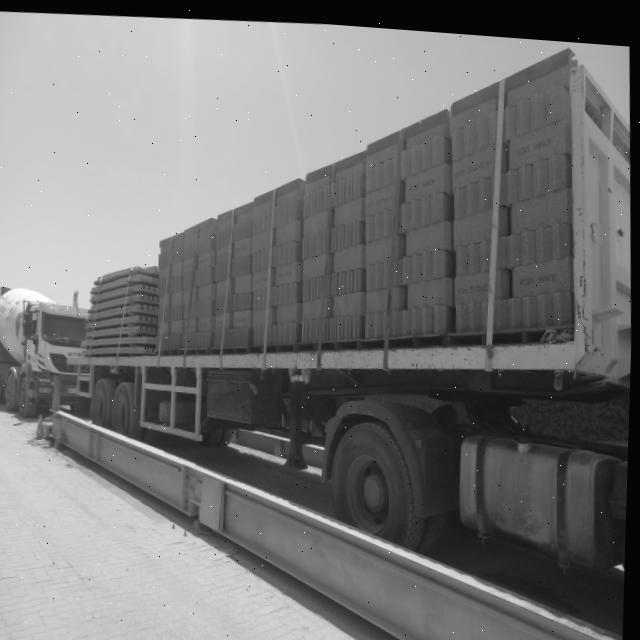bricks: (267, 132, 399, 348), (390, 83, 498, 336), (493, 48, 576, 329), (158, 192, 271, 353)
